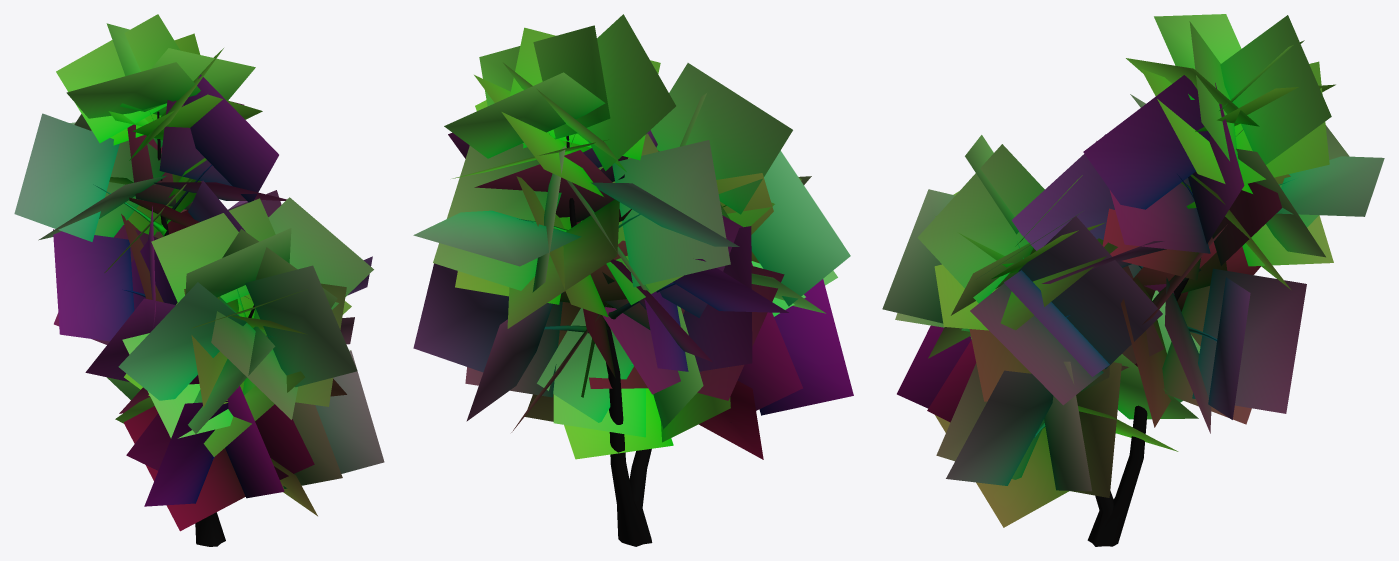
File: M_P15_Tree_5.fbx
The picture shows the model from 3 angles, left to right: view 1: azimuth 30°, elevation 25°; view 2: azimuth 150°, elevation 25°; view 3: azimuth 270°, elevation 25°; orthographic projection. The views are drawn at different scales.
Visible parts, largest first — view 1: Tree_5; view 2: Tree_5; view 3: Tree_5.
Part boxes in pixels (x1,y1,x2,y2): Tree_5: (14, 14, 384, 546); Tree_5: (413, 14, 853, 546); Tree_5: (882, 14, 1384, 546).
Size of the model in its own units: 545 by 826 by 726.
